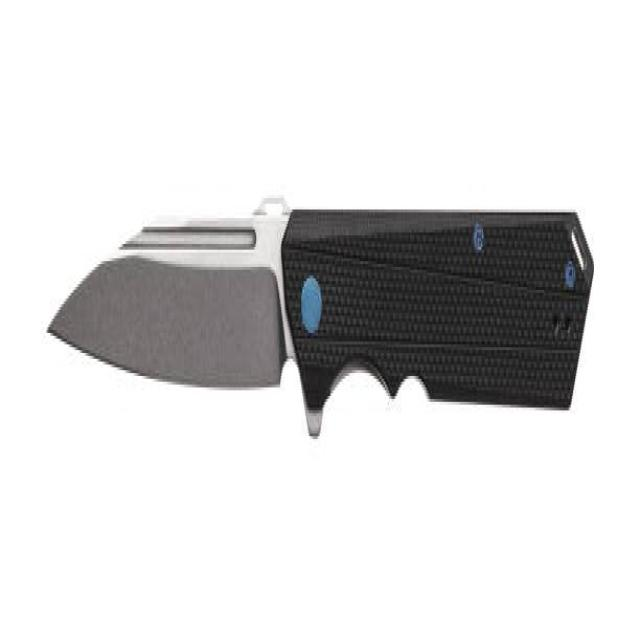knife: (45, 188, 600, 466)
